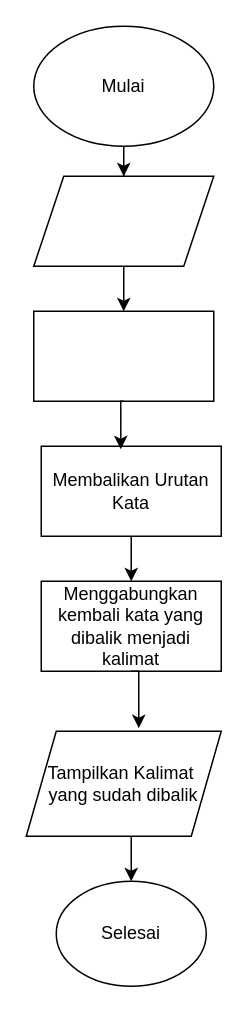
The diagram is 248 pixels wide and 1013 high, and some of its shapes have lost their labels. The box of each missing label's shape, as (x1, y1, x2, y2) in pixels:
Input Kalimat: (32, 175, 214, 266)
Pisahkan Kalimat menjadi kata: (32, 310, 214, 401)
